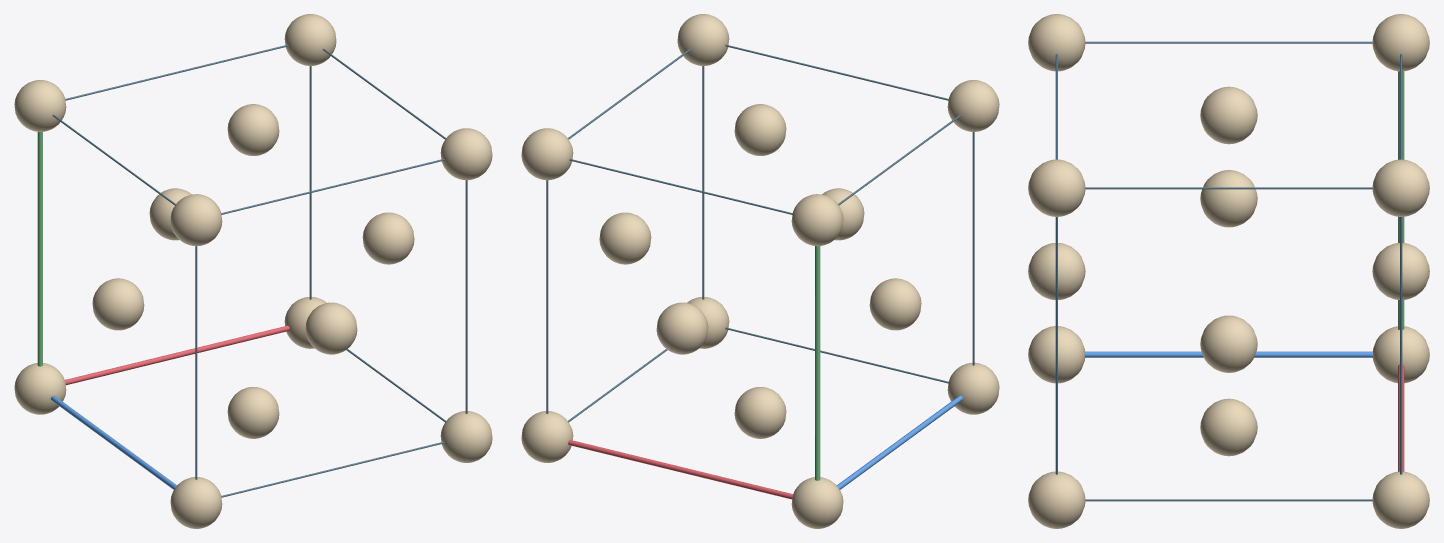
The model's file is nguyen-to-ir.glb.
The picture shows the model from 3 angles, left to right: view 1: azimuth 30°, elevation 25°; view 2: azimuth 150°, elevation 25°; view 3: azimuth 270°, elevation 25°; orthographic projection. The views are drawn at different scales.
Visible parts, largest first — view 1: Ir · Ir · 1 (×14), Ô mạng và các trục a, b, c; view 2: Ir · Ir · 1 (×14), Ô mạng và các trục a, b, c; view 3: Ir · Ir · 1 (×14), Ô mạng và các trục a, b, c.
Part boxes in pixels (x1,y1,x2,y2): Ir · Ir · 1 (×14): (14,14,492,528); Ô mạng và các trục a, b, c: (37,44,467,497); Ir · Ir · 1 (×14): (521,14,999,528); Ô mạng và các trục a, b, c: (546,44,974,499); Ir · Ir · 1 (×14): (1028,14,1429,528); Ô mạng và các trục a, b, c: (1055,41,1404,501).
Bounding box in the file's own units: 4.47 × 4.47 × 4.47.
